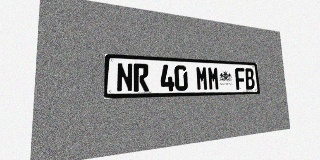0: (174, 65, 188, 91)
4: (160, 64, 175, 91)
B: (244, 68, 255, 90)
F: (235, 68, 246, 90)
M: (207, 66, 220, 90), (196, 66, 208, 90)
N: (116, 63, 133, 92)
R: (133, 63, 149, 92)
